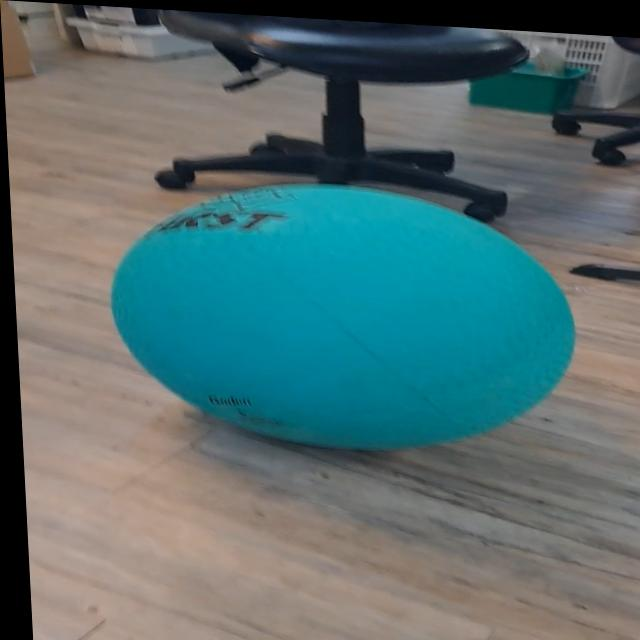ALGAE: (100, 167, 584, 465)
